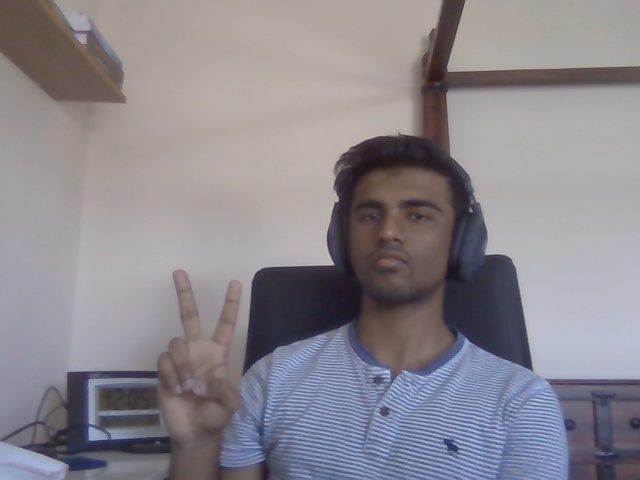Peace: (158, 269, 244, 435)
